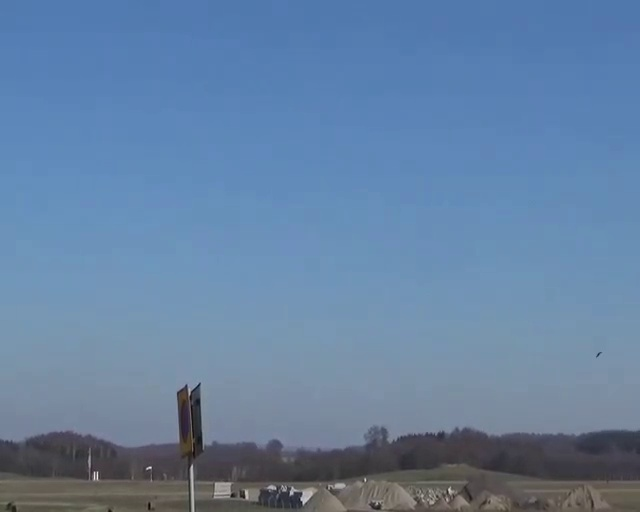BIRD: (594, 350, 603, 359)
